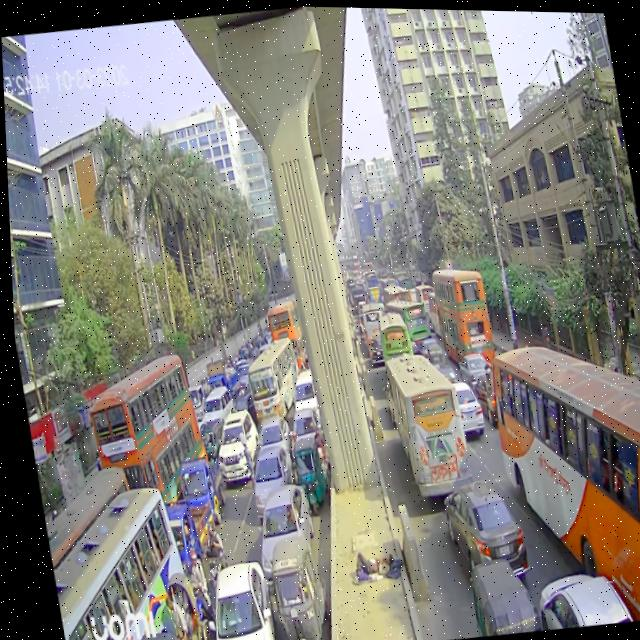cng: (281, 427, 333, 514)
rikshaw: (149, 559, 205, 640)
